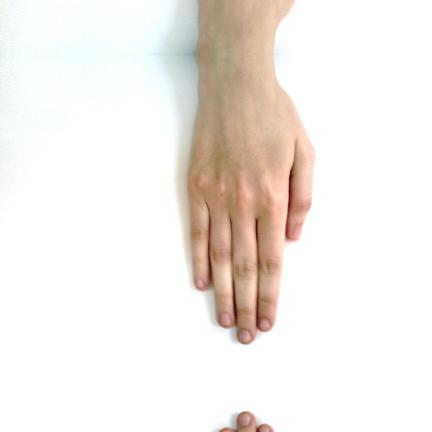Nail: (237, 329, 255, 345), (237, 411, 255, 427), (218, 313, 234, 328), (293, 223, 304, 241), (258, 318, 271, 332), (194, 279, 205, 290), (258, 424, 271, 432), (219, 428, 234, 432)
